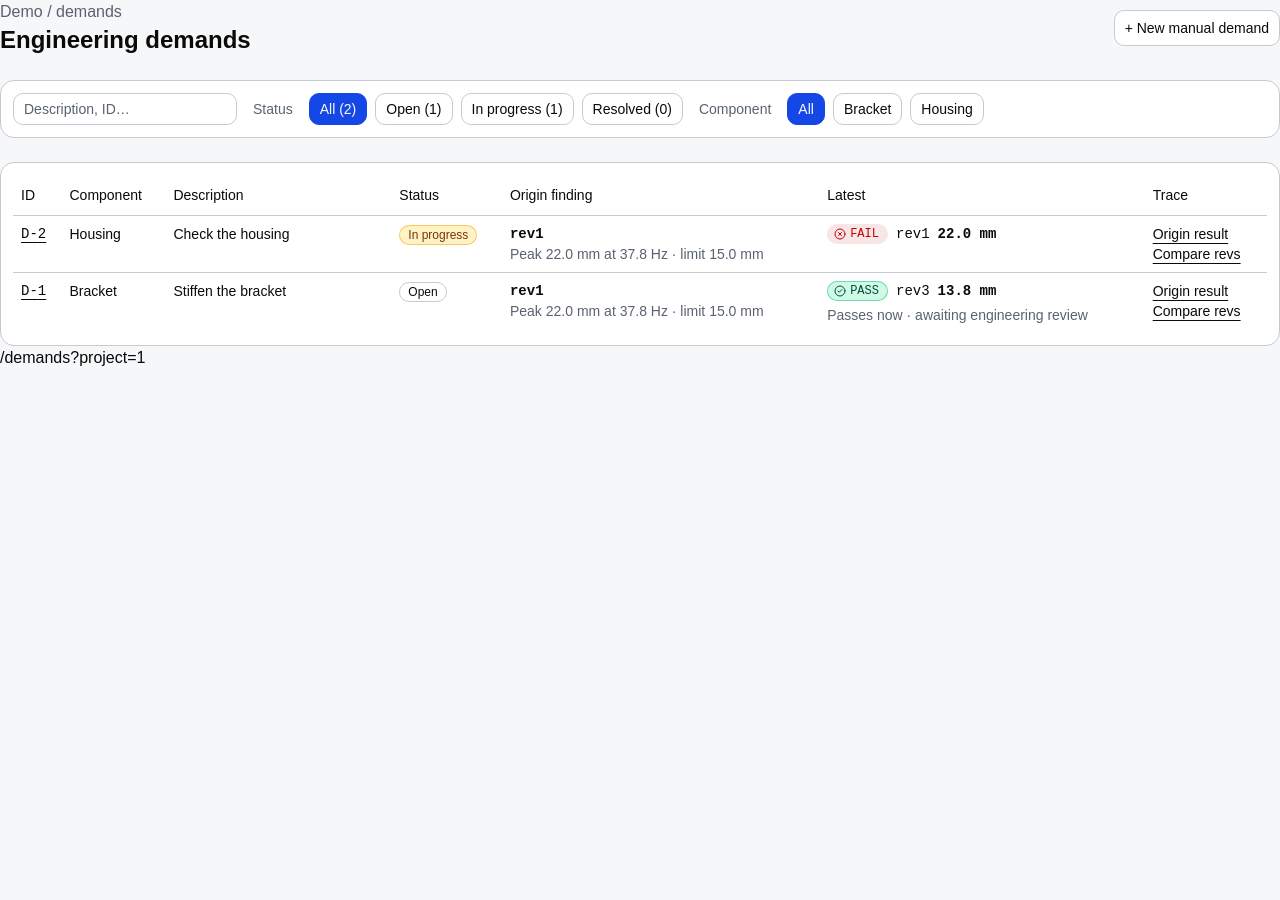
shows only the latest result in the row and the full history in the drawer
Expected: the text "rev1" in the row of "Stiffen the bracket" is shown, left=510, top=282, right=544, bottom=298
Expected: the text "rev3" is shown, left=896, top=282, right=930, bottom=298
What coordinates should you click on to do the following:
click the text "Stiffen the bracket"
I would click on:
 (230, 290)
Its box is left=166, top=272, right=391, bottom=332.
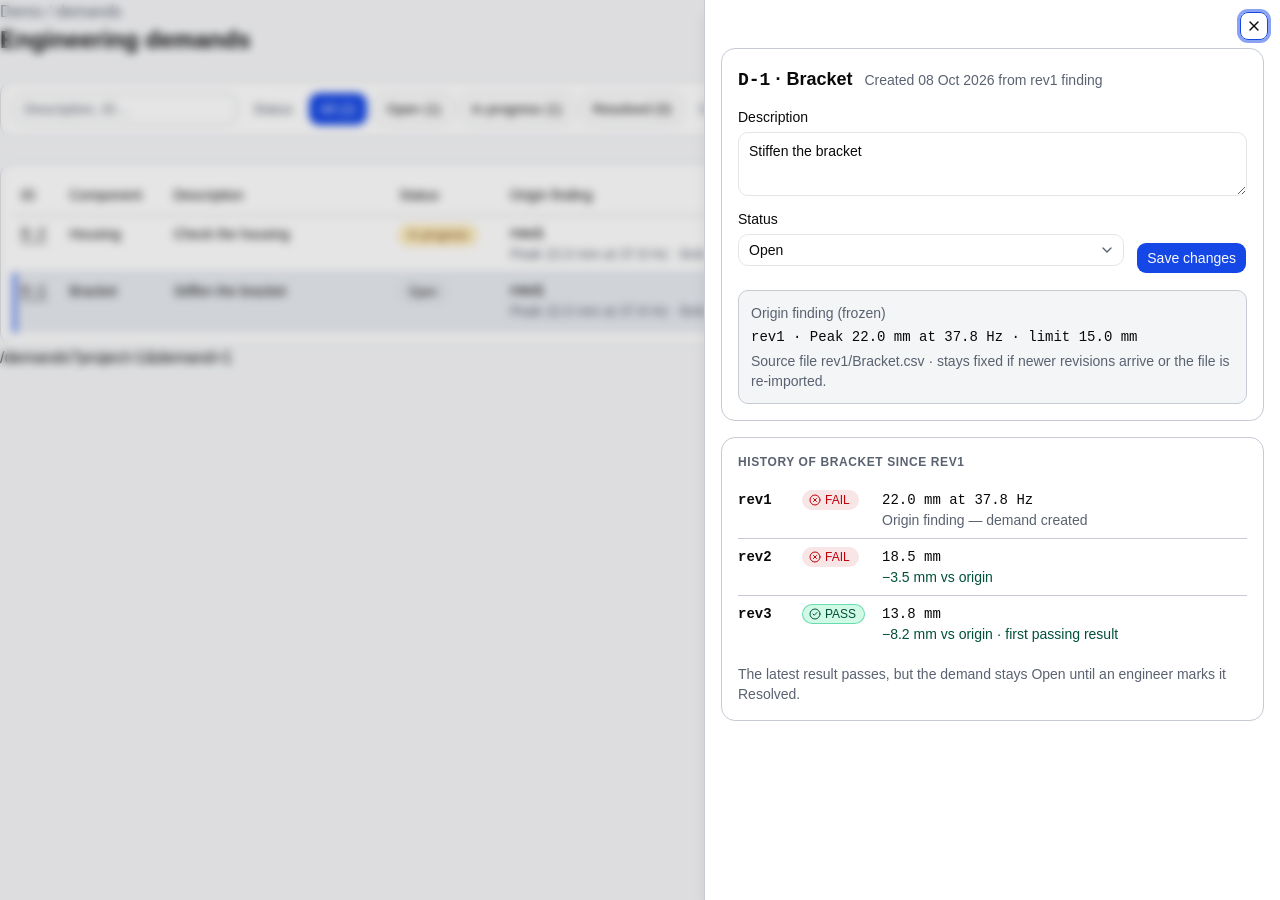
Expected: the number of list items is 3, left=738, top=482, right=1247, bottom=539; left=738, top=539, right=1247, bottom=596; left=738, top=604, right=1118, bottom=642
Expected: the text "The latest result passes, but the demand stays" is shown, left=738, top=666, right=1028, bottom=682
